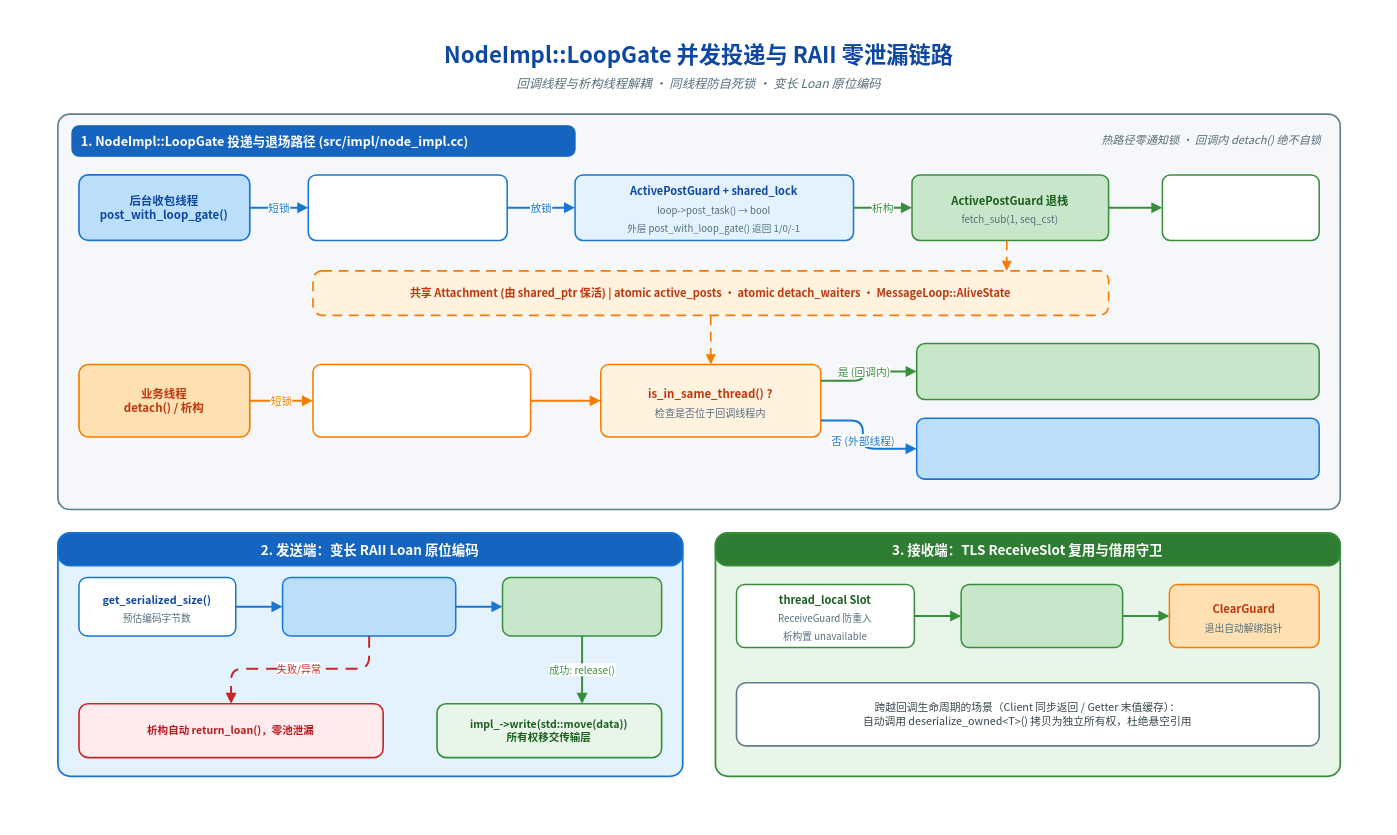
This 1397x835 diagram has some shape labels left out. The centre of each missing label's shape, as x and y in pixels:
"impl_->loan(size) unique_ptr 删除器托管" belongs at (x=368, y=606).
"切断新投递 置空 message_loop 移出 attachment" belongs at (x=421, y=400).
"原位写入共享内存 Proto / CDR / ZeroCopy" belongs at (x=581, y=606).
"取 attachment 短锁内 active_posts++ (relaxed)" belongs at (x=407, y=207).
"按需唤醒 归零且 waiters!=0 才 notify_all()" belongs at (x=1240, y=207).
"用户业务回调 借用共享内存载荷" belongs at (x=1041, y=615).
"立即 return true (不自死锁) 当前回调栈帧由 shared_ptr 保活至退出" belongs at (x=1117, y=371).
"等待排空后返回 detach_waiters++ (seq_cst) → 等 active_posts==0 → wait_for_idle()" belongs at (x=1117, y=448).
